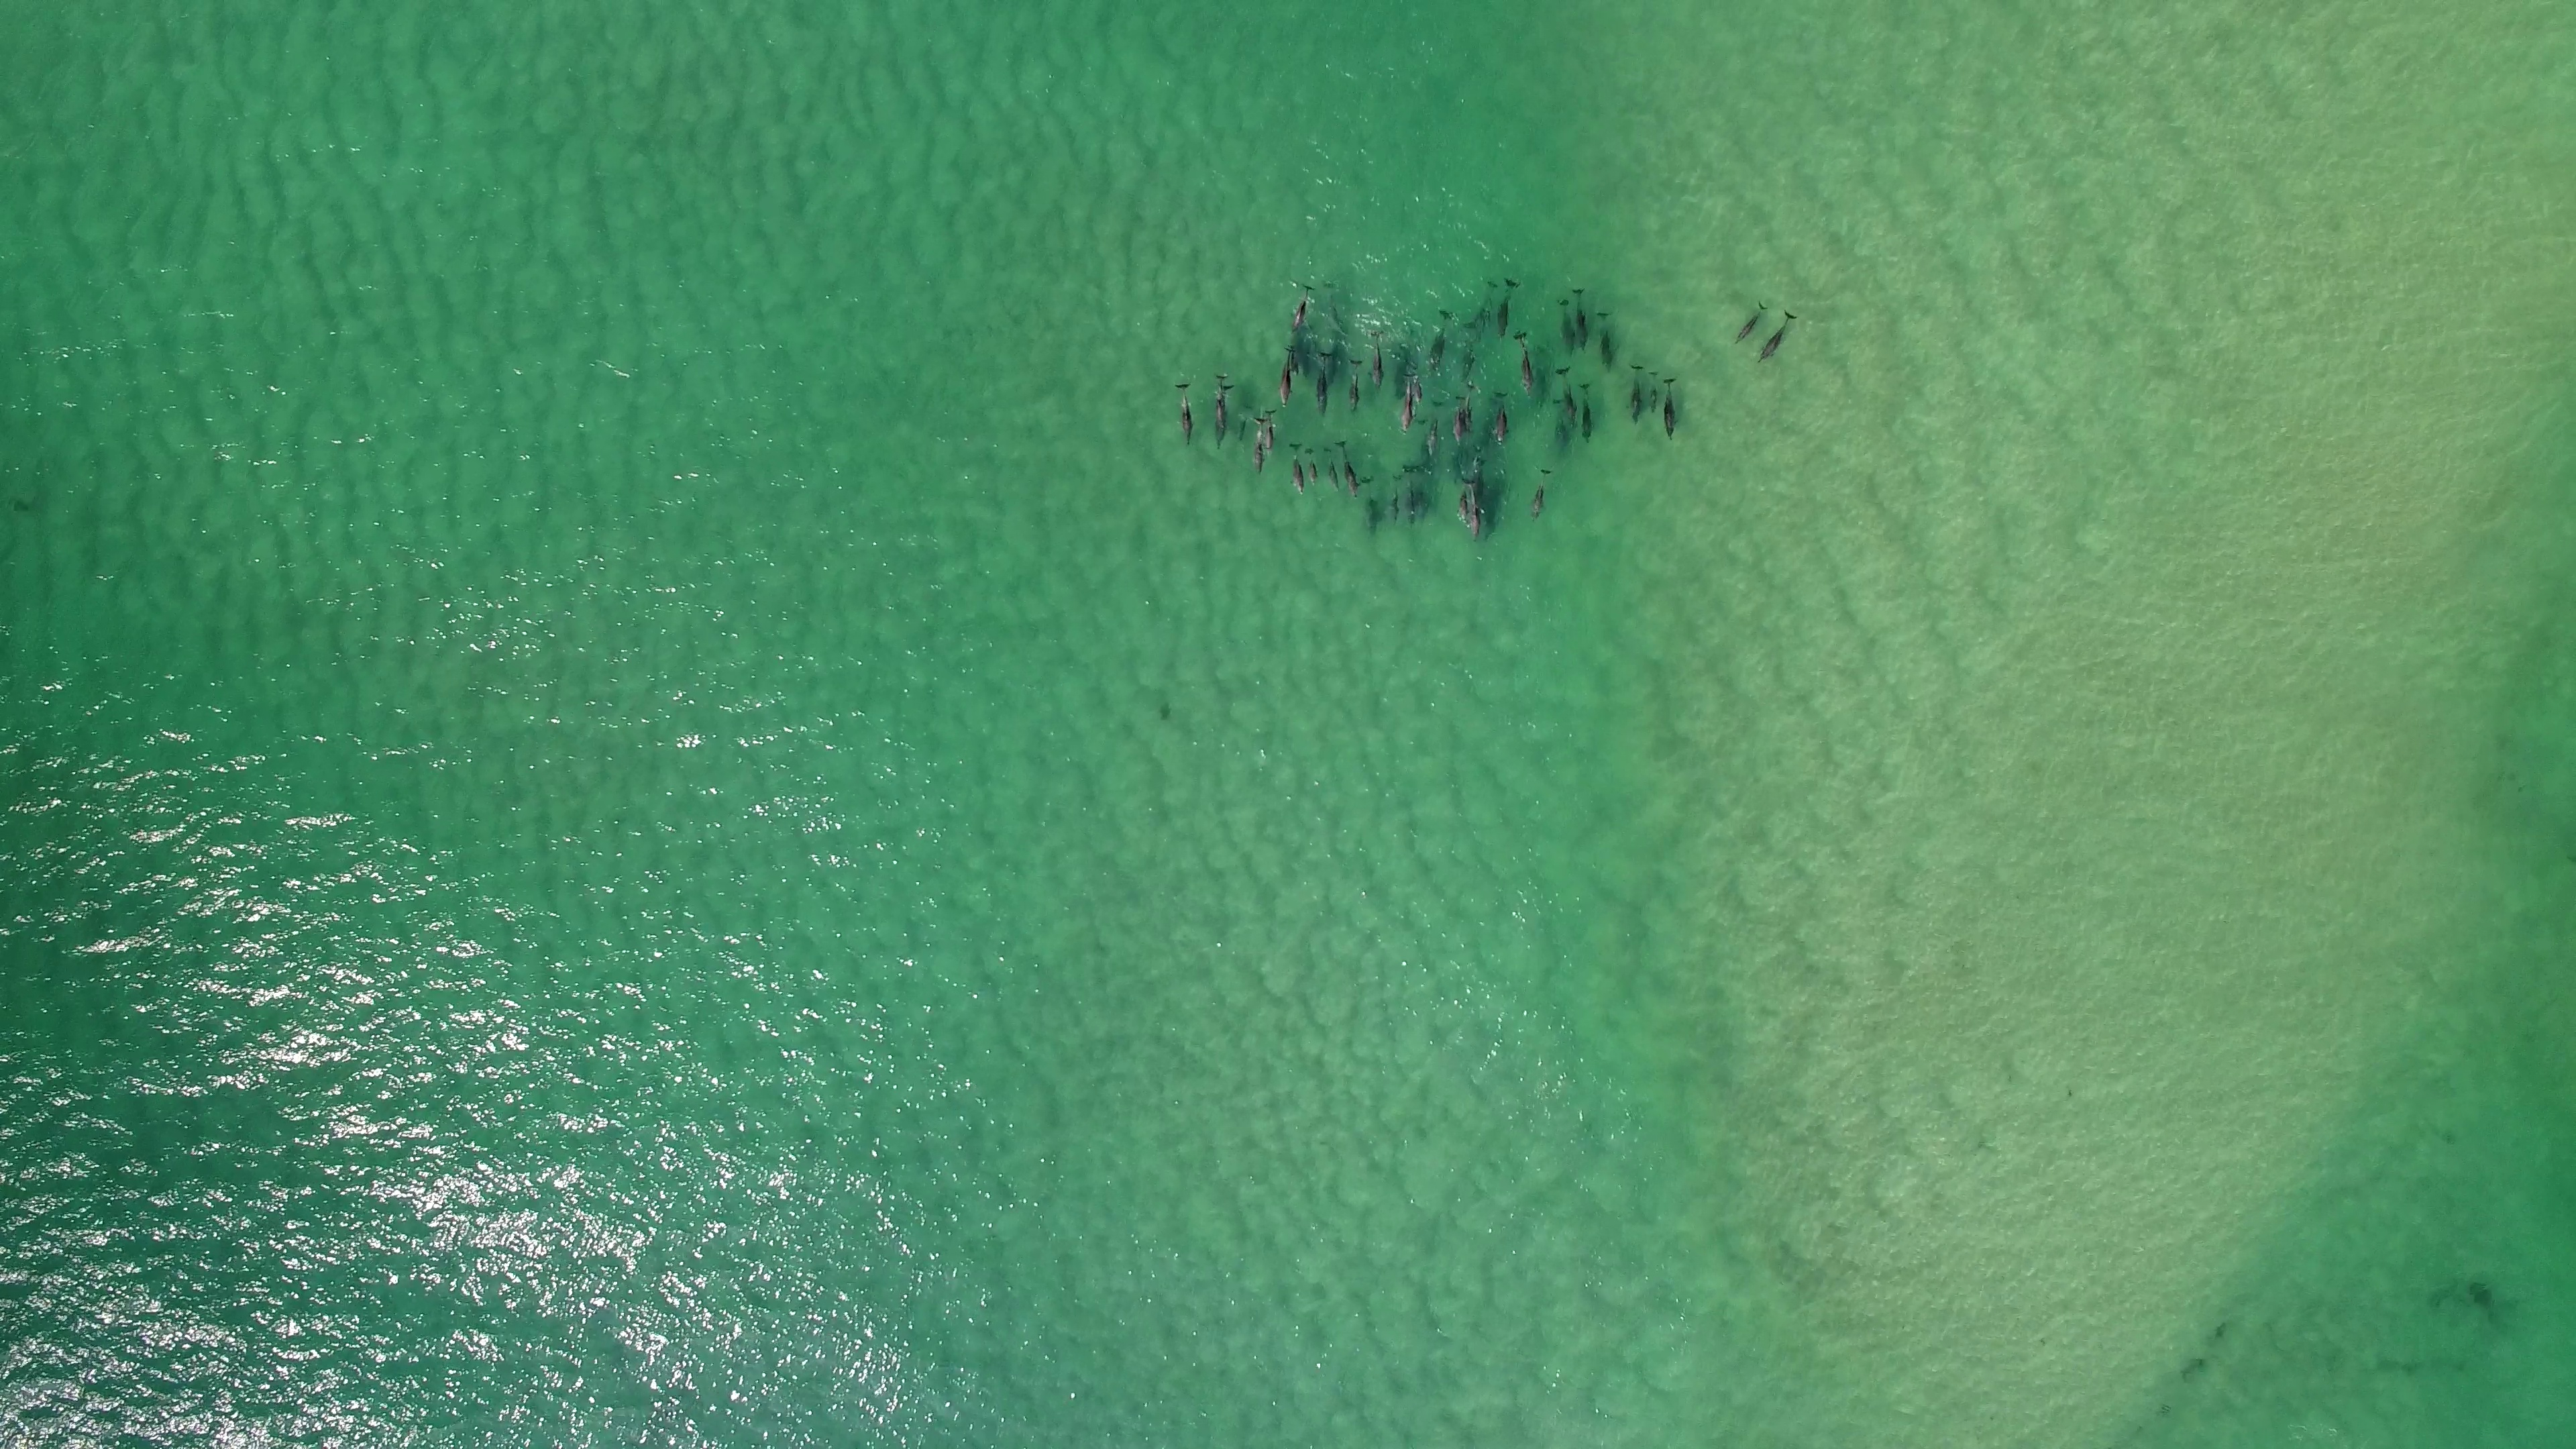dolphin: (1755, 310, 1796, 366), (1552, 368, 1583, 426), (1428, 306, 1454, 373), (1729, 299, 1766, 347), (1525, 467, 1555, 525), (1511, 331, 1537, 396), (1171, 380, 1196, 449), (1460, 479, 1488, 538), (1399, 464, 1426, 525), (1472, 278, 1499, 338), (1493, 278, 1516, 343), (1594, 308, 1619, 368), (1336, 441, 1361, 501), (1555, 297, 1580, 356), (1571, 285, 1591, 356), (1576, 384, 1598, 446), (1288, 283, 1315, 333), (1359, 474, 1380, 536), (1286, 441, 1307, 501), (1214, 372, 1233, 435), (1315, 350, 1332, 418), (1369, 327, 1387, 391), (1493, 391, 1513, 448), (1215, 384, 1233, 446), (1277, 347, 1295, 409), (1346, 357, 1364, 418), (1663, 373, 1677, 446), (1320, 446, 1341, 494), (1629, 361, 1644, 428), (1401, 372, 1415, 439), (1461, 324, 1477, 382), (1453, 487, 1472, 533), (1385, 472, 1401, 527), (1251, 418, 1265, 478), (1261, 405, 1277, 453), (1453, 396, 1467, 449), (1645, 368, 1660, 416), (1463, 379, 1476, 432), (1412, 370, 1430, 403), (1306, 444, 1318, 488), (1288, 341, 1304, 375), (1430, 416, 1440, 465)
